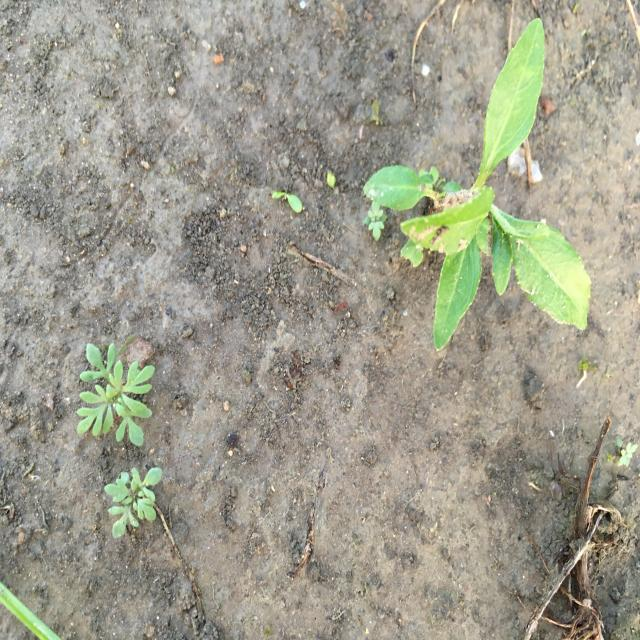Eclipta: (362, 16, 594, 351)
Ragweed: (76, 341, 156, 449), (104, 466, 163, 540)
